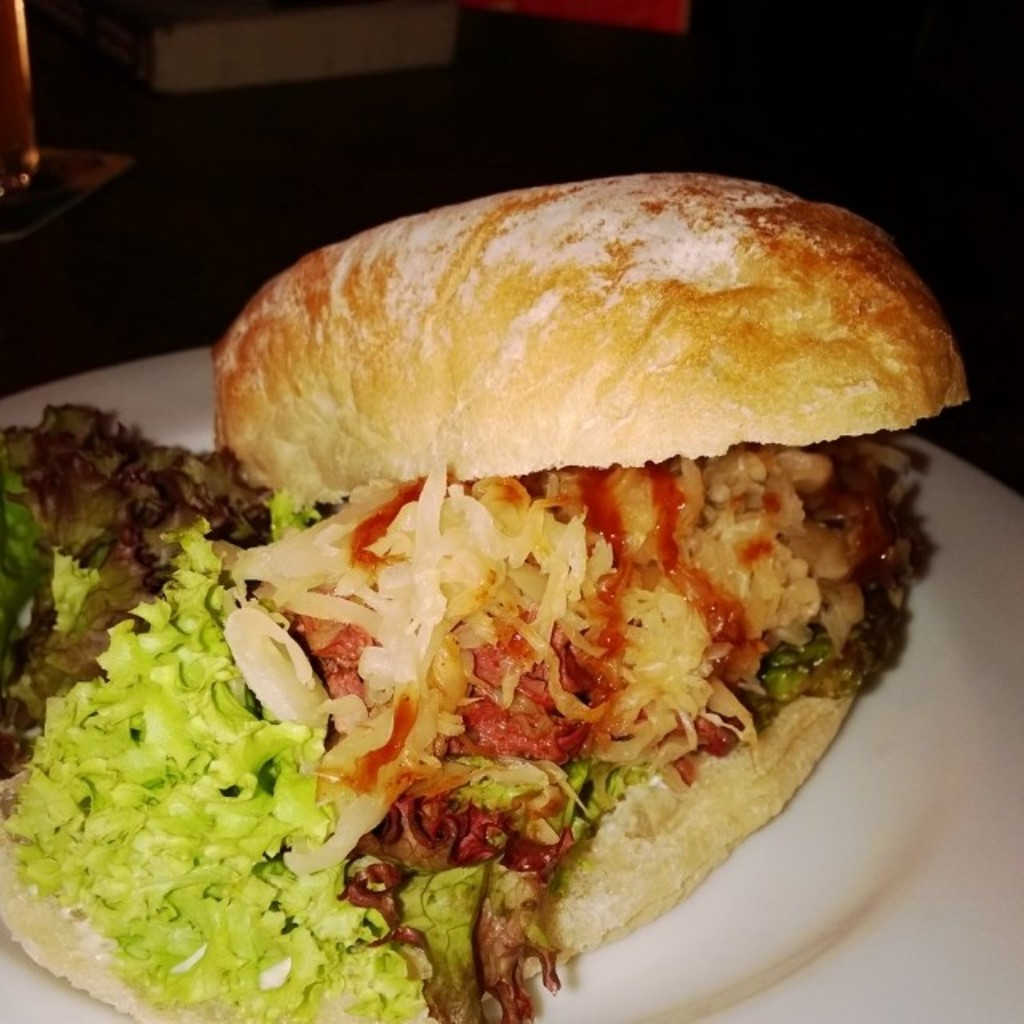Hamburger: (211, 171, 969, 977)
